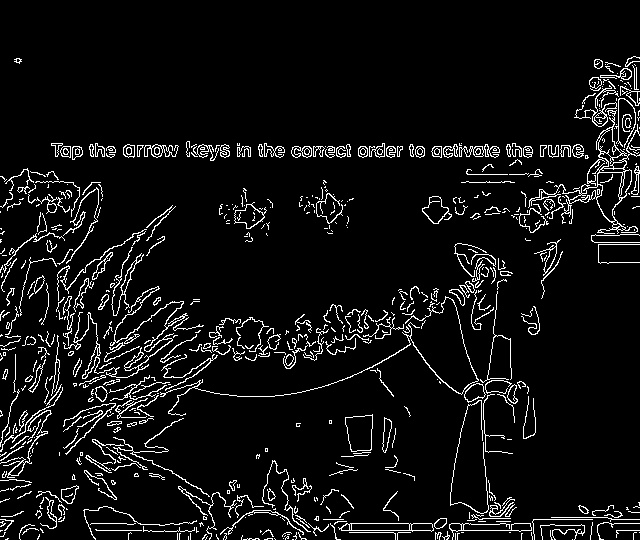down: (418, 192, 454, 231)
right: (307, 190, 347, 232), (229, 199, 268, 239), (512, 204, 551, 242)
